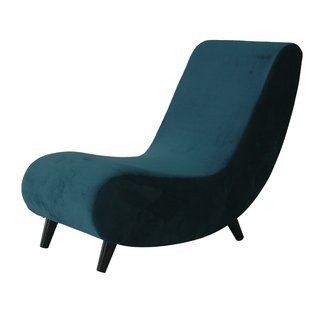chairs: (9, 34, 304, 274)
